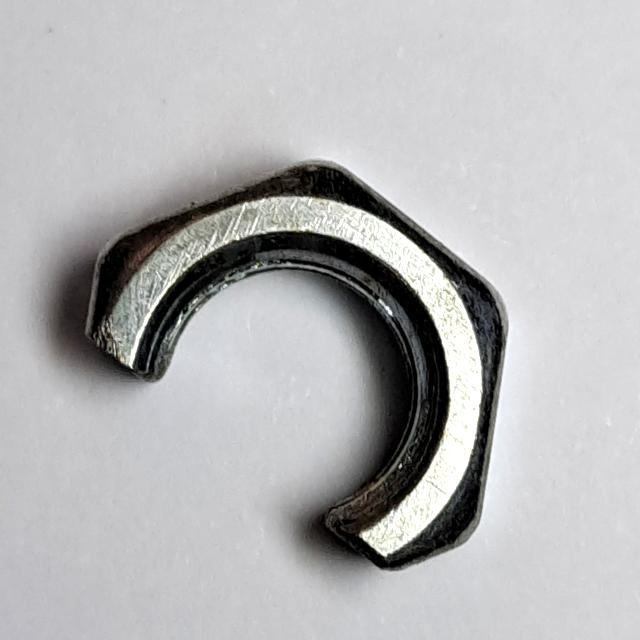Fracture: (76, 145, 519, 587)
